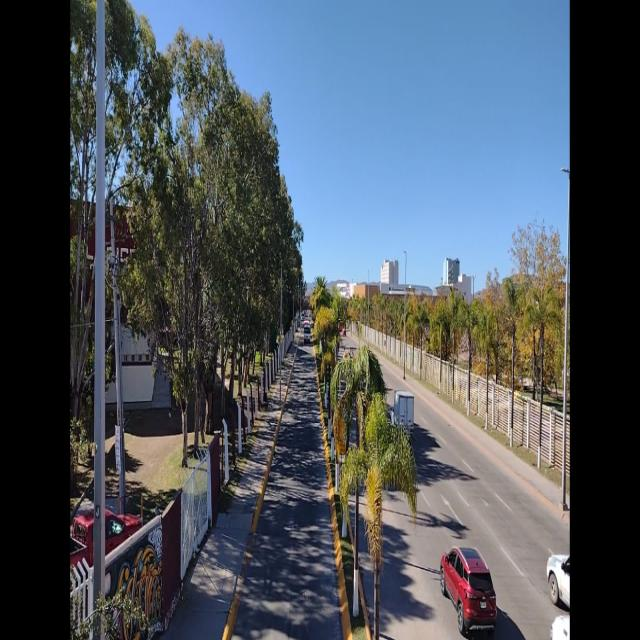Auto: (439, 541, 500, 640)
